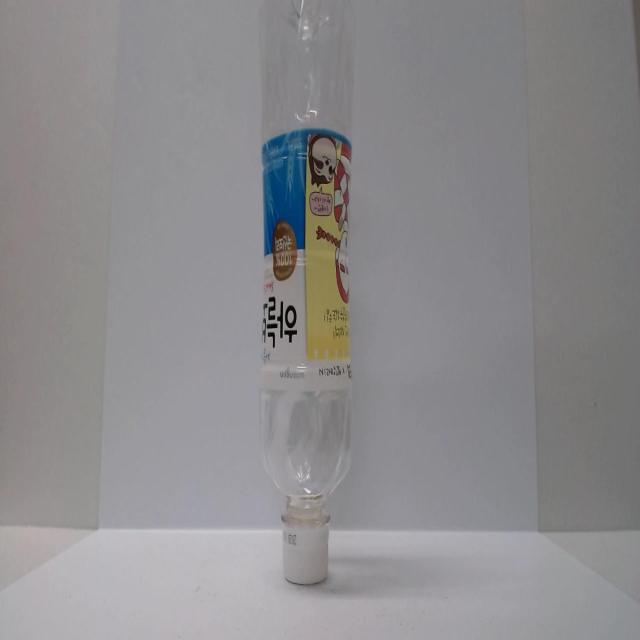bottle: (227, 2, 367, 605)
